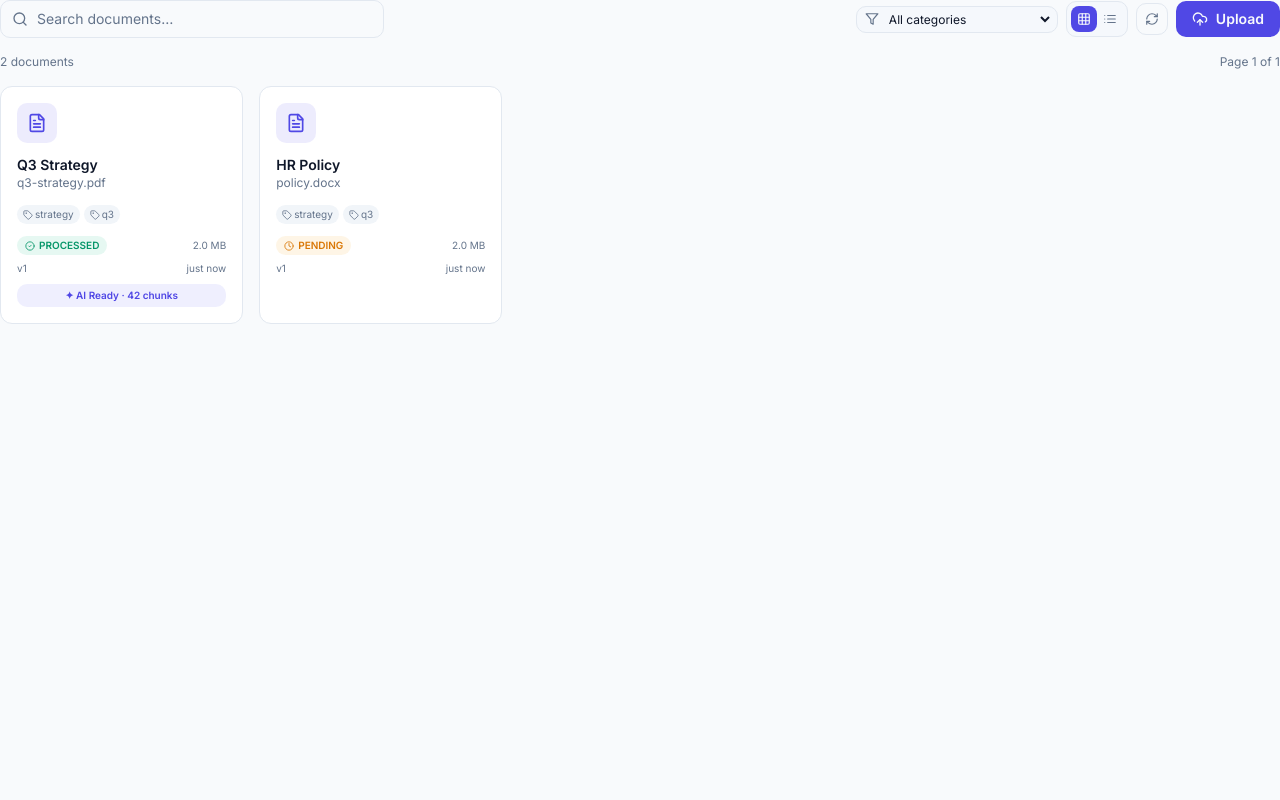
Test: DocumentExplorer › should open upload modal when upload button clicked
expect the text "Q3 Strategy" is shown: met, box 17,156 -> 98,173
Click the button with id "document-upload-btn".
click(1228, 19)  # box 1176,1 -> 1279,37
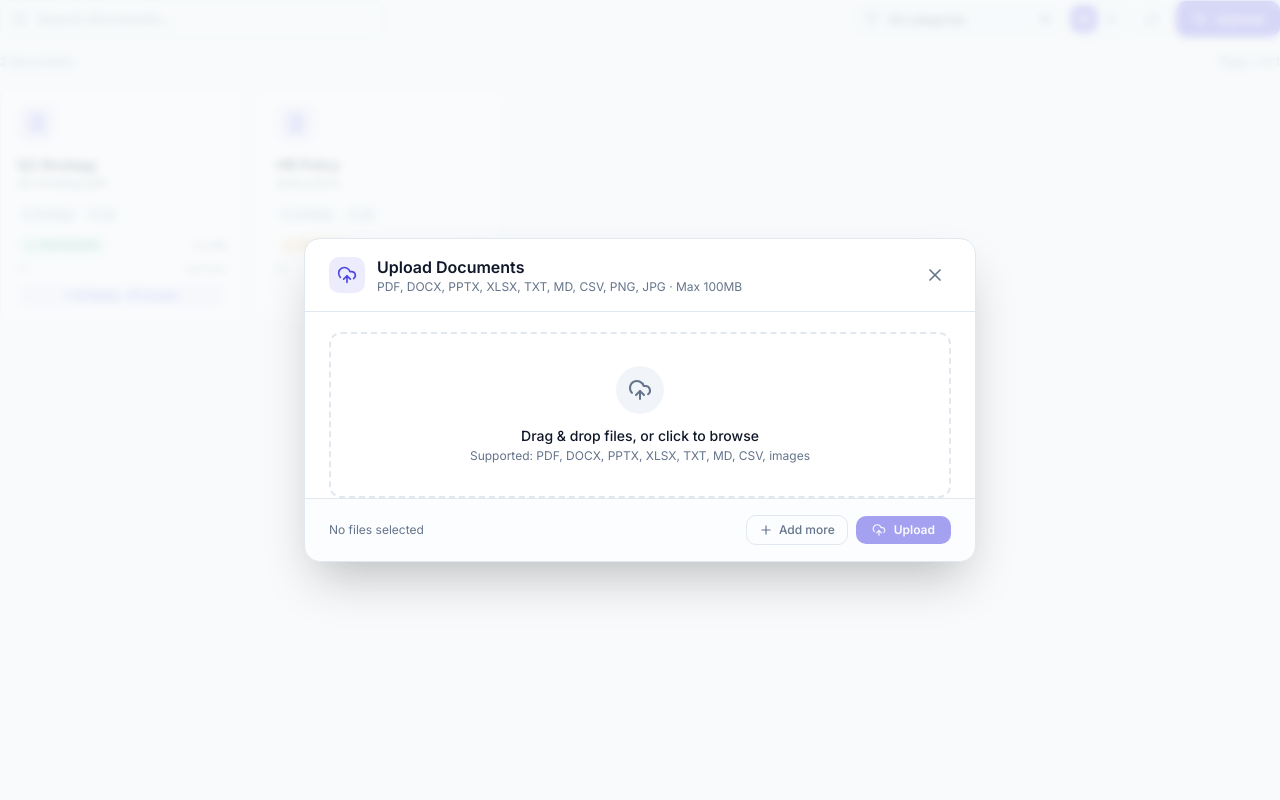
expect the dialog with id "document-upload-modal" is shown: met
